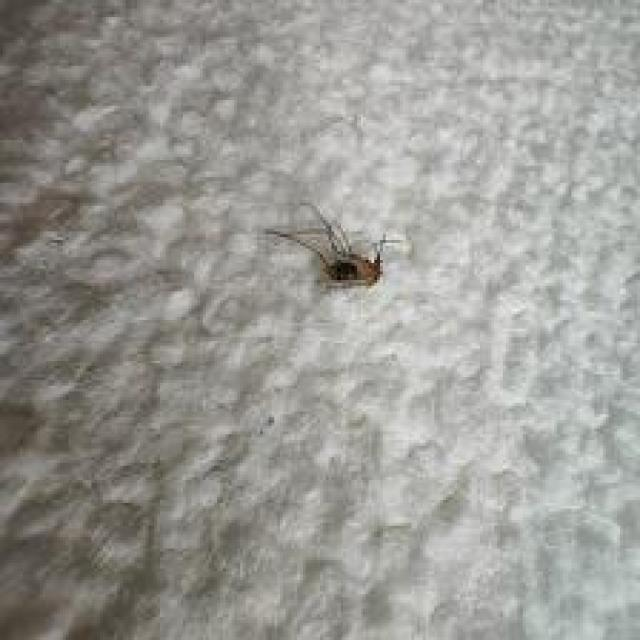Culex: (263, 201, 406, 290)
